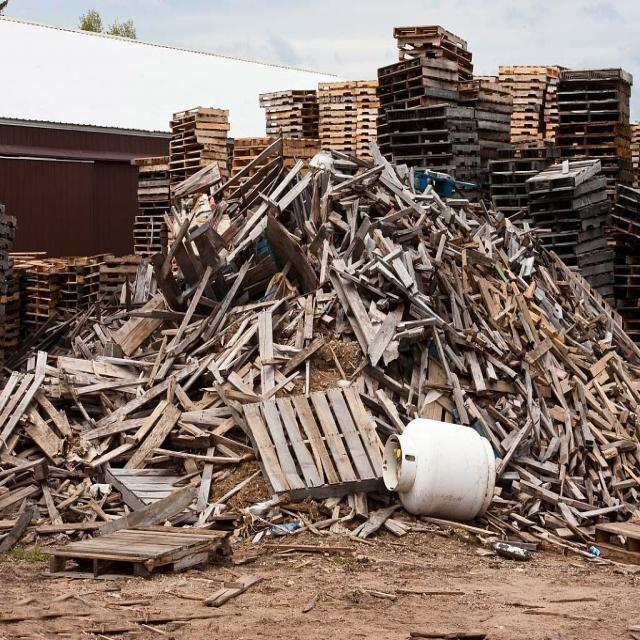green waste: (0, 35, 638, 586)
